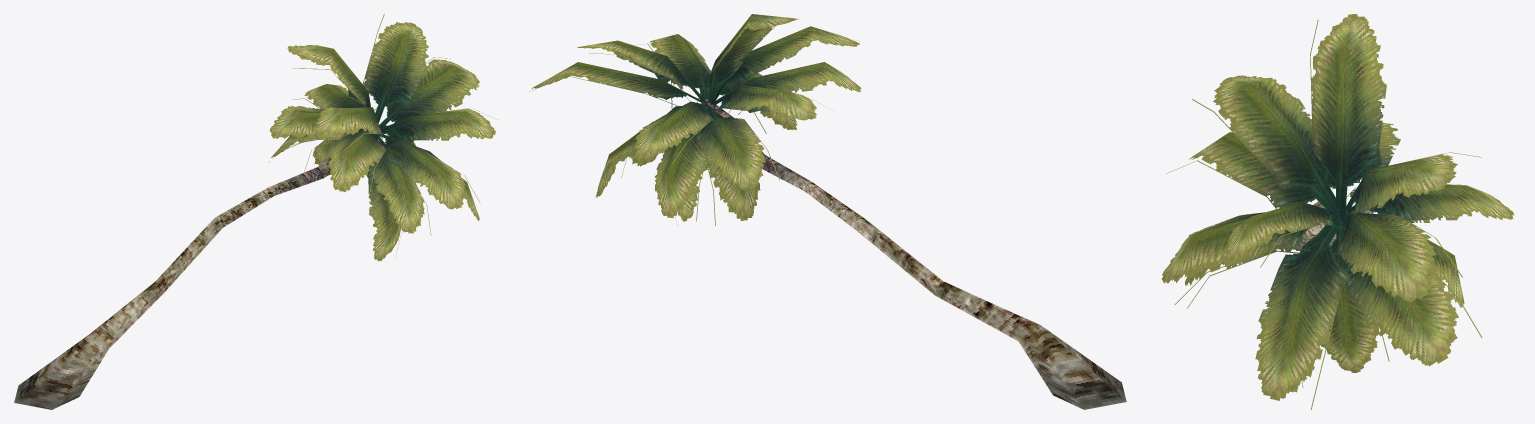
File: stage-beac-p2-81.glb
3 views of the same model, side by side, from view 1: azimuth 30°, elevation 25°; view 2: azimuth 150°, elevation 25°; view 3: azimuth 270°, elevation 25° (orthographic). The views are drawn at different scales.
Size of the model in its own units: 13.54 by 7.16 by 5.96.
Materials: 1 (1 with a texture image).
